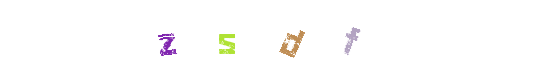D: (235, 0, 315, 80)
F: (271, 0, 351, 80)
S: (221, 0, 301, 80)
Z: (127, 0, 207, 80)
